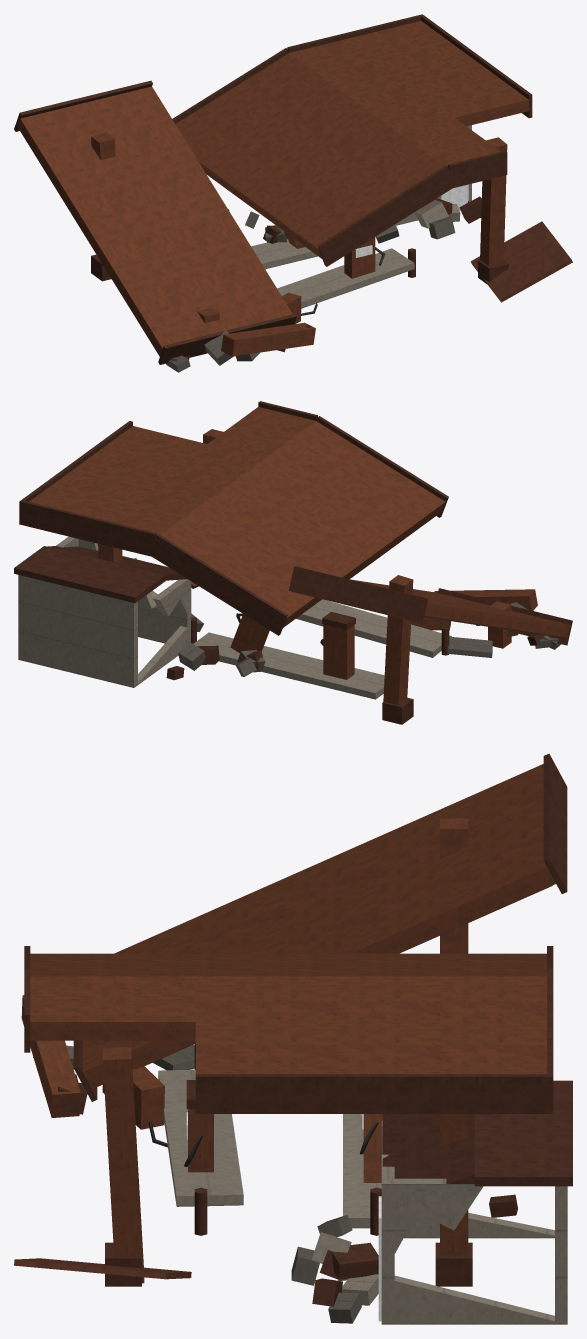
The picture shows the model from 3 angles, top to bottom: view 1: azimuth 30°, elevation 25°; view 2: azimuth 150°, elevation 25°; view 3: azimuth 270°, elevation 25°; orthographic projection. The views are drawn at different scales.
Parts seen in each view (by area): view 1: site_gas_station_ruin; view 2: site_gas_station_ruin; view 3: site_gas_station_ruin.
Part boxes in pixels (<box>): site_gas_station_ruin: <box>14,14,572,372</box>; site_gas_station_ruin: <box>14,401,572,724</box>; site_gas_station_ruin: <box>14,753,572,1324</box>.
Size of the model in its own units: 14.8 by 5.39 by 10.82.
Materials: 7 (7 with a texture image).
